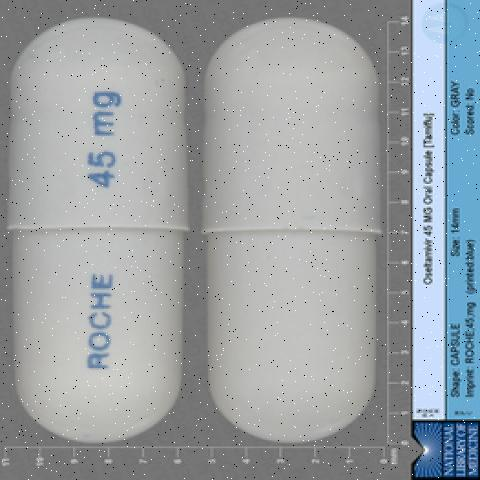Pill: (7, 10, 196, 458), (202, 11, 383, 456)
